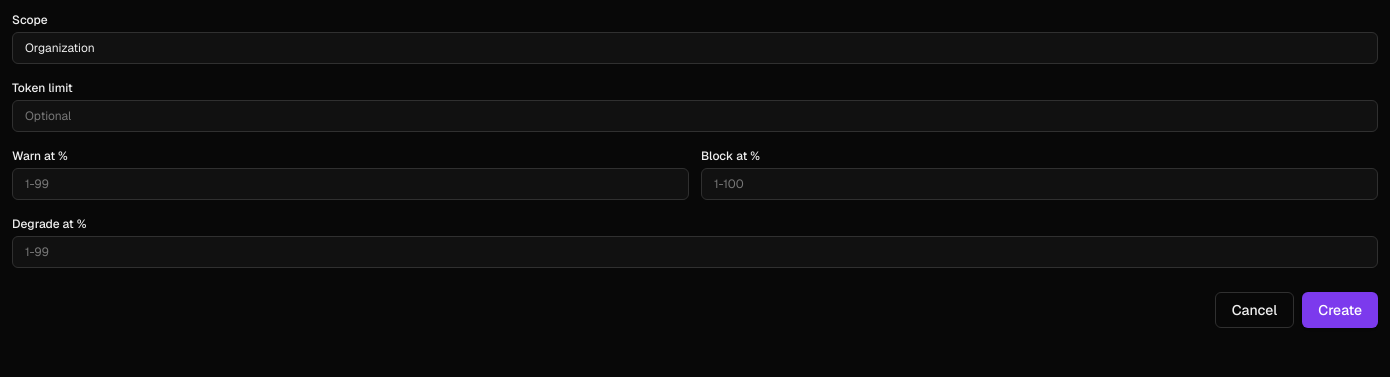
Test: PolicyEditor › shows the API's reason when a save is rejected
The image size is (1390, 377).
Click the button "Create": {"x": 1340, "y": 310} [1302,292,1378,328]
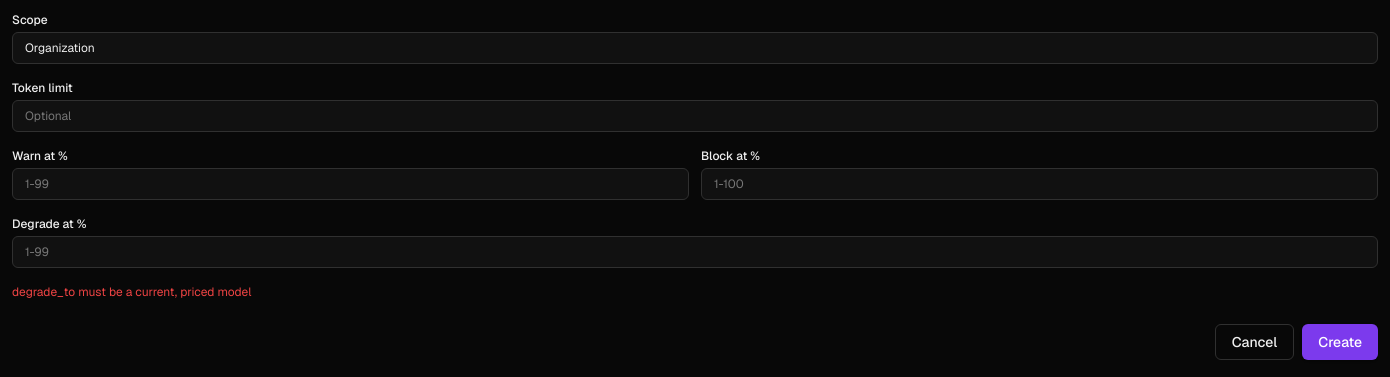
Result: the message reads "degrade_to must be a current, priced model" at [12,284,252,300]
